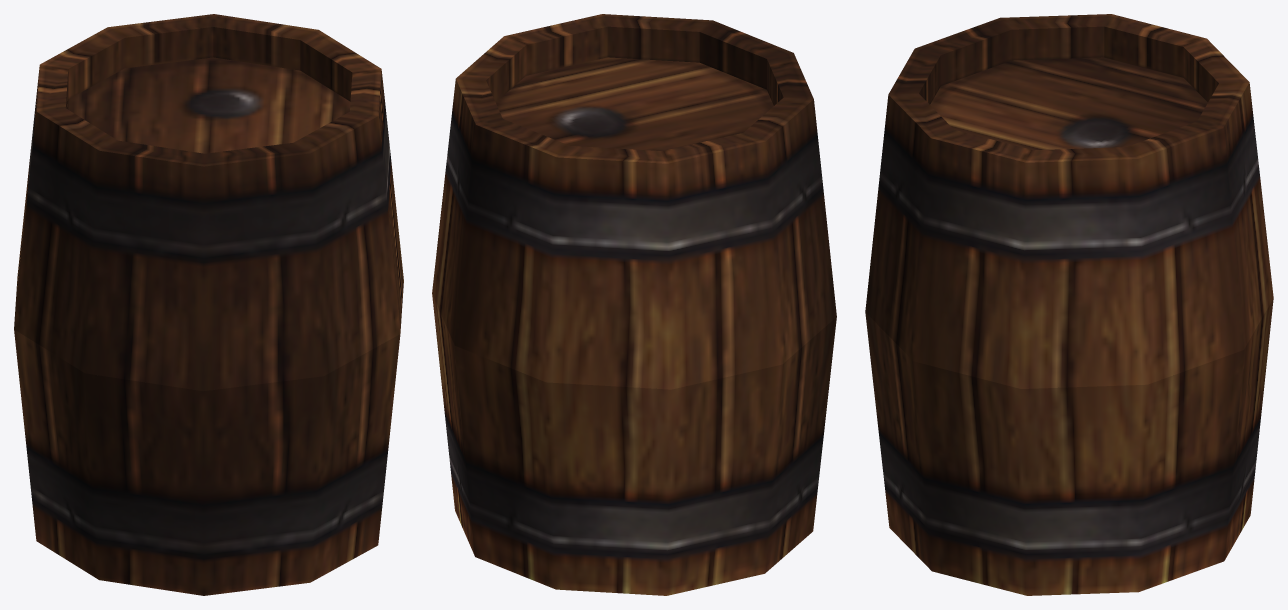
Rendered from H_Maze_tong01.FBX.
3 renders of one model, left to right at view 1: azimuth 30°, elevation 25°; view 2: azimuth 150°, elevation 25°; view 3: azimuth 270°, elevation 25°, orthographic.
Visible parts, largest first — view 1: tong01; view 2: tong01; view 3: tong01.
Boxes of the visible parts, x1,y1,x2,y2 form: tong01: [14, 14, 403, 595]; tong01: [432, 14, 836, 595]; tong01: [865, 14, 1273, 595].
Bounding box in the file's own units: 42.75 × 51.4 × 43.86.
